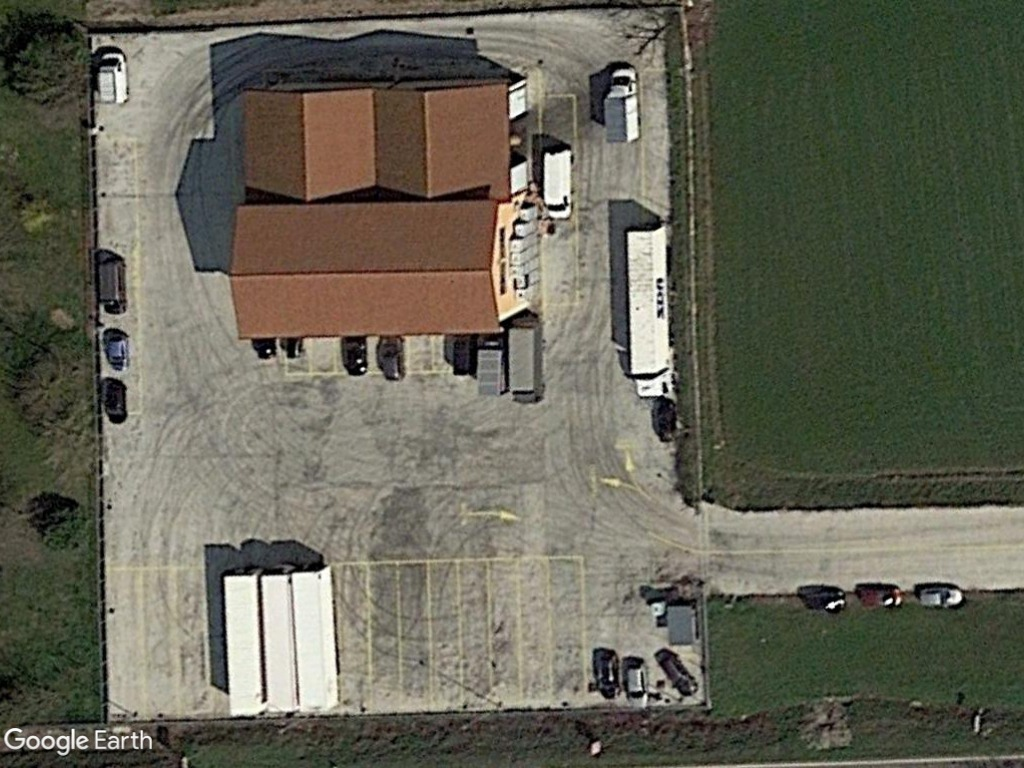car: (101, 376, 134, 429), (913, 580, 965, 612), (623, 654, 652, 711), (101, 326, 130, 374)
longvehicle: (617, 218, 678, 399), (285, 560, 339, 717), (216, 566, 266, 722), (256, 559, 300, 720)
truck: (507, 311, 550, 408), (600, 63, 647, 146), (94, 252, 134, 320), (94, 47, 135, 109)
van: (536, 141, 580, 224)
